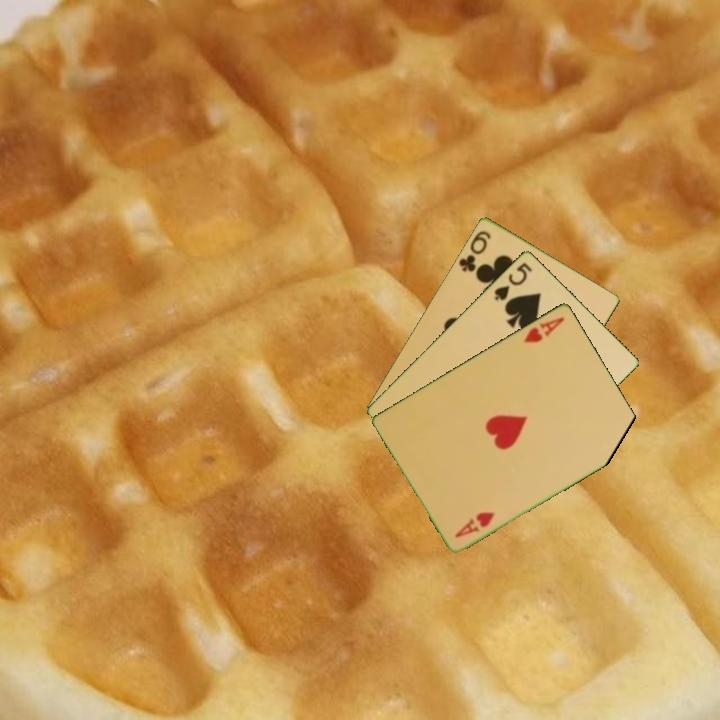5s: (491, 258, 535, 303)
6c: (455, 227, 494, 274)
Ah: (520, 313, 567, 345), (451, 508, 498, 540)
